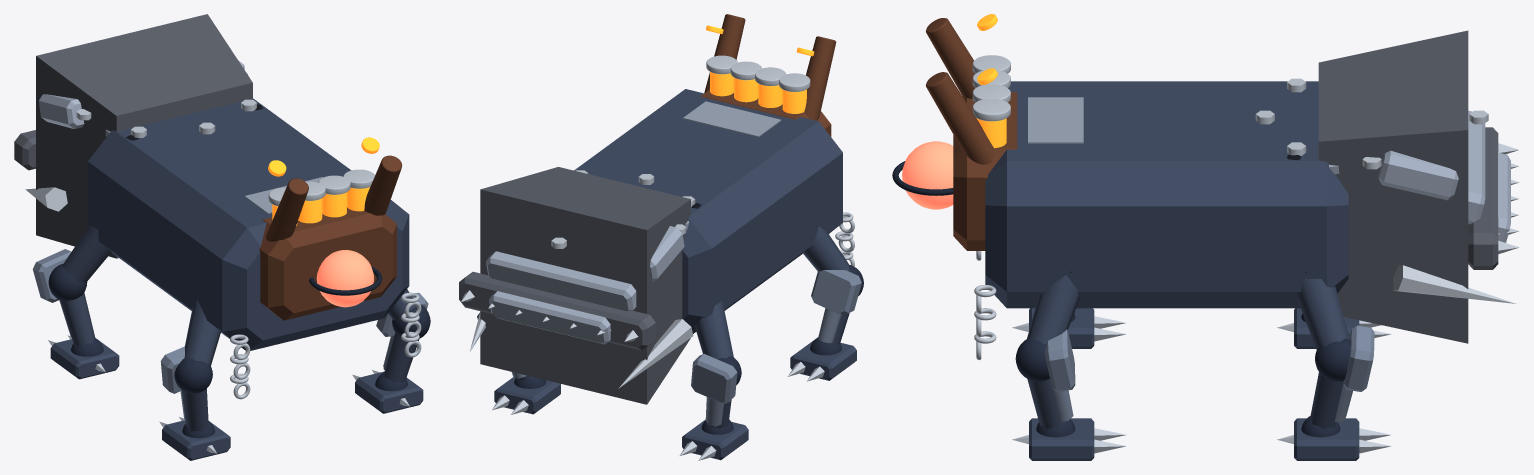
File: enemy_ram.glb
3 views of the same model, side by side, from view 1: azimuth 30°, elevation 25°; view 2: azimuth 150°, elevation 25°; view 3: azimuth 270°, elevation 25° (orthographic). The views are drawn at different scales.
Visible parts, largest first — view 1: ram_chassis, ram_wedge, ram_engine_block, ram_fuel_cell, ram_leg_fl_sole, ram_leg_br_sole, ram_leg_bl_sole, ram_leg_fl_thigh, ram_stack_l, ram_leg_bl_thigh, ram_stack_r, ram_head_plate0 (+18 smaller); view 2: ram_chassis, ram_wedge, ram_head_plate1, ram_bar, ram_head_plate2, ram_radiator, ram_leg_bl_knee_cap, ram_leg_fl_knee_cap, ram_stack_l, ram_leg_fl_thigh, ram_leg_bl_sole, ram_leg_fl_sole (+17 smaller); view 3: ram_chassis, ram_wedge, ram_engine_block, ram_bar, ram_stack_r, ram_fuel_cell, ram_radiator, ram_head_plate0, ram_leg_fr_thigh, ram_leg_br_thigh, ram_leg_br_sole, ram_leg_fr_sole (+14 smaller).
Part boxes in pixels (x1,y1,x2,y2): ram_chassis: (87,98,409,350); ram_wedge: (36,14,252,258); ram_engine_block: (259,207,396,320); ram_fuel_cell: (316,250,374,307); ram_leg_fl_sole: (50,338,119,379); ram_leg_br_sole: (355,371,423,413); ram_leg_bl_sole: (162,420,230,460); ram_leg_fl_thigh: (62,224,111,283); ram_stack_l: (266,178,308,241); ram_leg_bl_thigh: (184,299,220,365); ram_stack_r: (364,155,402,215); ram_head_plate0: (39,60,244,129); ram_chassis: (574,89,842,333); ram_wedge: (480,167,690,404); ram_head_plate1: (486,251,636,311); ram_bar: (459,271,655,350); ram_head_plate2: (489,291,610,344); ram_radiator: (683,101,781,137); ram_leg_bl_knee_cap: (811,270,861,315); ram_leg_fl_knee_cap: (691,354,737,404); ram_stack_l: (804,36,836,120); ram_leg_fl_thigh: (694,300,733,358); ram_leg_bl_sole: (790,337,856,380); ram_leg_fl_sole: (682,419,748,460); ram_chassis: (985,81,1348,308); ram_wedge: (1318,30,1468,343); ram_engine_block: (953,92,1017,250); ram_bar: (1468,127,1498,269); ram_stack_r: (926,72,994,164); ram_fuel_cell: (902,141,953,209); ram_radiator: (1028,97,1083,143); ram_head_plate0: (1378,150,1458,200); ram_leg_fr_thigh: (1296,279,1349,349); ram_leg_br_thigh: (1027,275,1079,343); ram_leg_br_sole: (1029,418,1094,460); ram_leg_fr_sole: (1294,418,1359,460).
Size of the model in its own units: 1.68 by 1.82 by 2.93.
